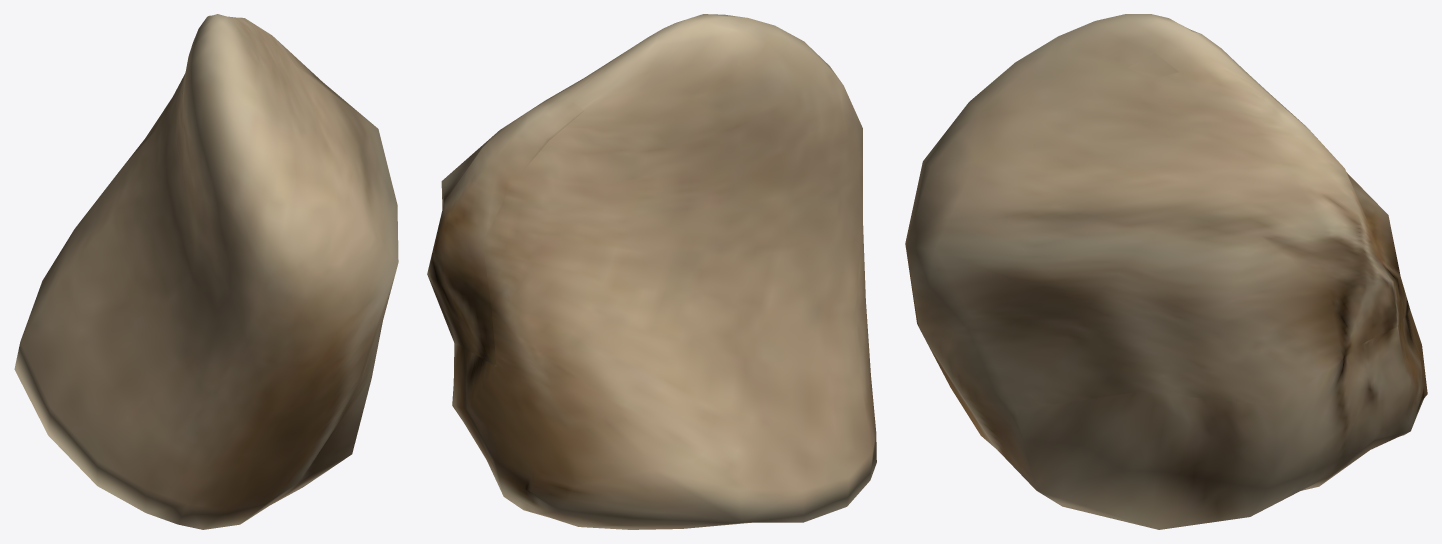
File: Maxilary_Premolar4.glb
3 renders of one model, left to right at view 1: azimuth 30°, elevation 25°; view 2: azimuth 150°, elevation 25°; view 3: azimuth 270°, elevation 25°, orthographic. The views are drawn at different scales.
Visible parts, largest first — view 1: Premolar10; view 2: Premolar10; view 3: Premolar10.
Boxes of the visible parts, x1=… form: Premolar10: x1=14, y1=14, x2=398, y2=529; Premolar10: x1=427, y1=14, x2=876, y2=529; Premolar10: x1=905, y1=14, x2=1427, y2=529.
Bounding box in the file's own units: 0.0212 × 0.0299 × 0.0301.
Materials: 1 (1 with a texture image).
